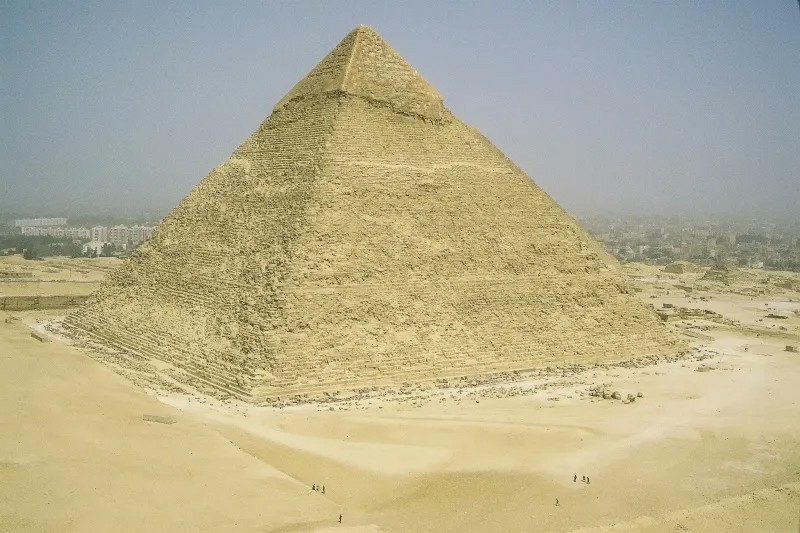Pyramid: (61, 24, 696, 402)
